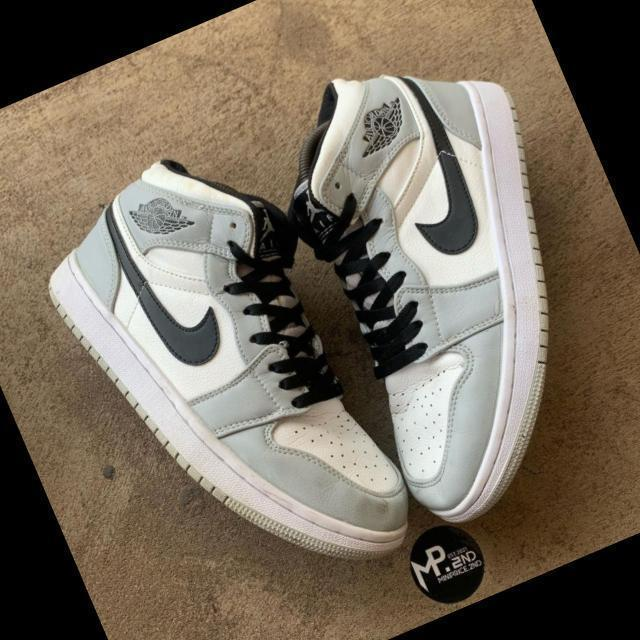nike fake jordan 1: (17, 121, 430, 638), (250, 28, 640, 541)
